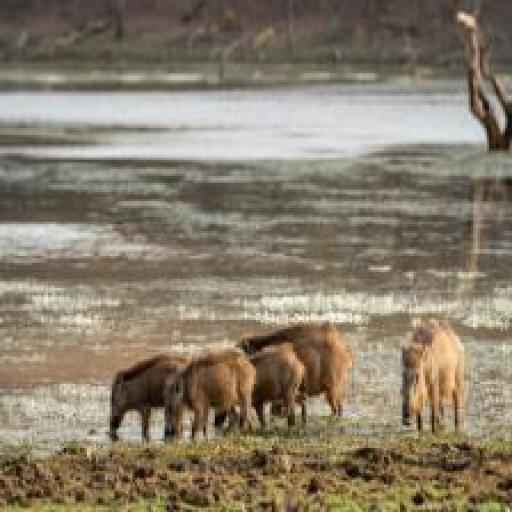Pig: (103, 318, 354, 439), (398, 308, 464, 446)
